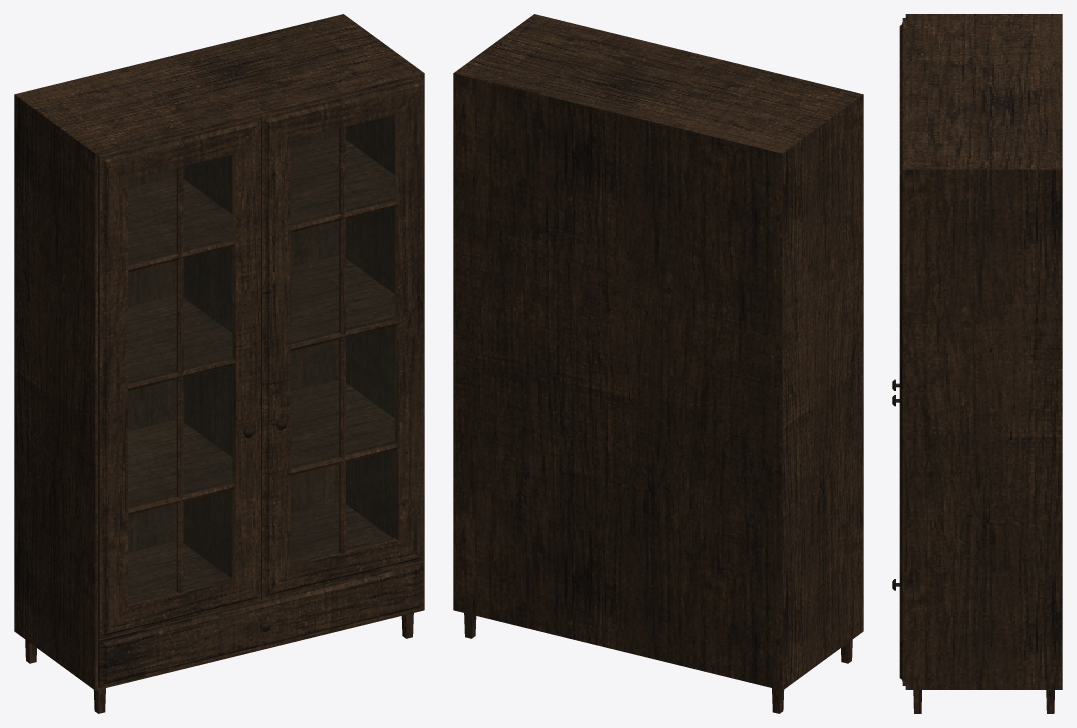
Rendered from wardrobe_mp_2_1.glb.
3 views of the same model, side by side, from view 1: azimuth 30°, elevation 25°; view 2: azimuth 150°, elevation 25°; view 3: azimuth 270°, elevation 25° (orthographic). The views are drawn at different scales.
Visible parts, largest first — view 1: wardrobe_mp_2_1, wardrobe_mp_2_1_drawer; view 2: wardrobe_mp_2_1; view 3: wardrobe_mp_2_1, wardrobe_mp_2_1_drawer.
Part boxes in pixels (bbox=[...]): wardrobe_mp_2_1: bbox=[14, 14, 424, 713]; wardrobe_mp_2_1_drawer: bbox=[98, 561, 423, 688]; wardrobe_mp_2_1: bbox=[453, 14, 863, 713]; wardrobe_mp_2_1: bbox=[892, 14, 1062, 713]; wardrobe_mp_2_1_drawer: bbox=[892, 579, 905, 685].
Bounding box in the file's own units: 1.22 × 2 × 0.5645.
Materials: 2 (2 with a texture image).
